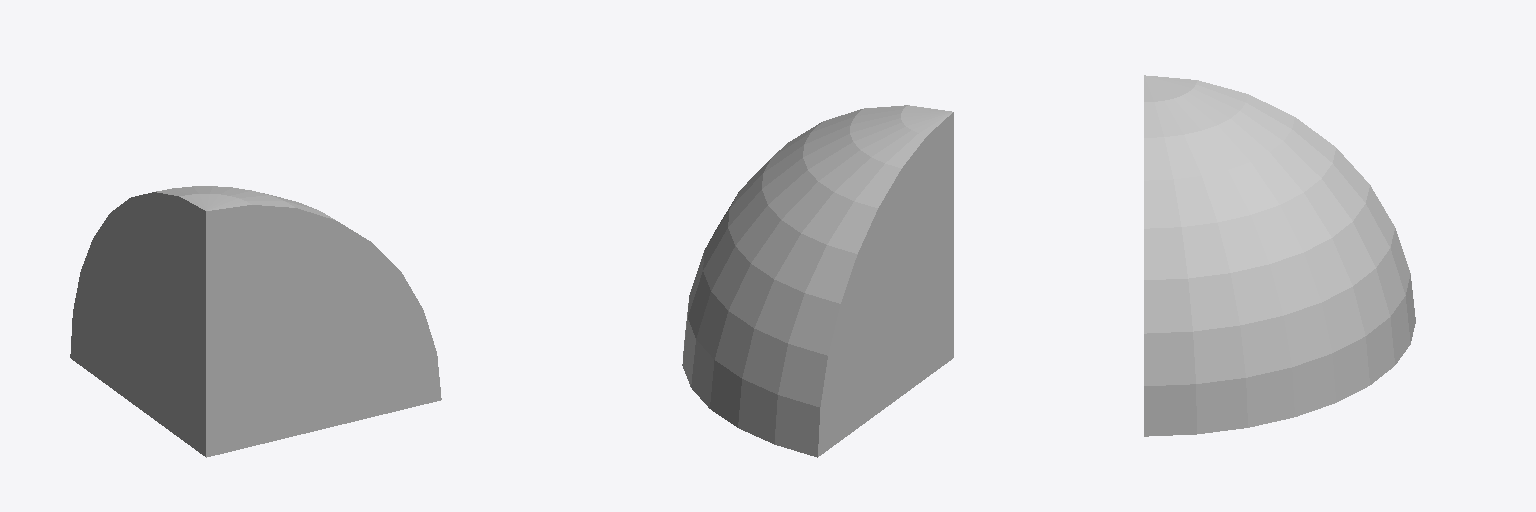
Rendered from curvecornerz-.obj.
3 views of the same model, side by side, from view 1: azimuth 30°, elevation 25°; view 2: azimuth 150°, elevation 25°; view 3: azimuth 270°, elevation 25° (orthographic).
Parts seen in each view (by area): view 1: Sphere; view 2: Sphere; view 3: Sphere.
Boxes of the visible parts, box(x1,y1,x2,y2) form: Sphere: box(70, 186, 441, 457); Sphere: box(682, 105, 953, 457); Sphere: box(1144, 75, 1415, 436).
Bounding box in the file's own units: 1 × 1 × 1.